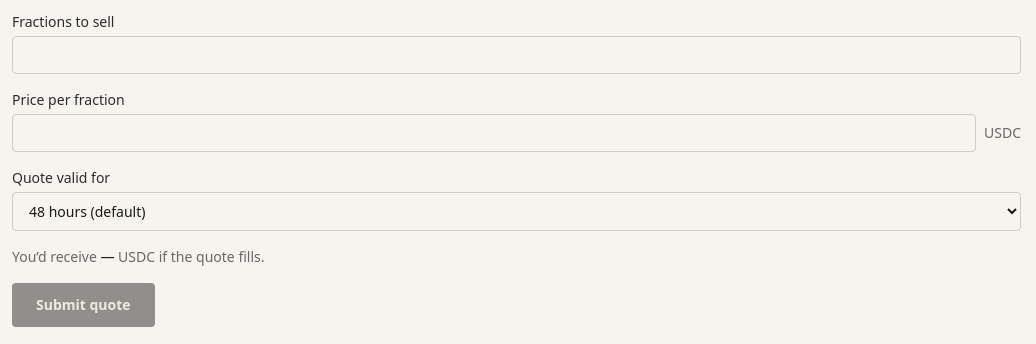
Test: QuoteForm (interaction) › updates the "you’d receive" preview to 375.00 for count=25, price=15
Type "25" into the field labelled "Fractions to sell" at [516, 55], box [12,36,1021,74]
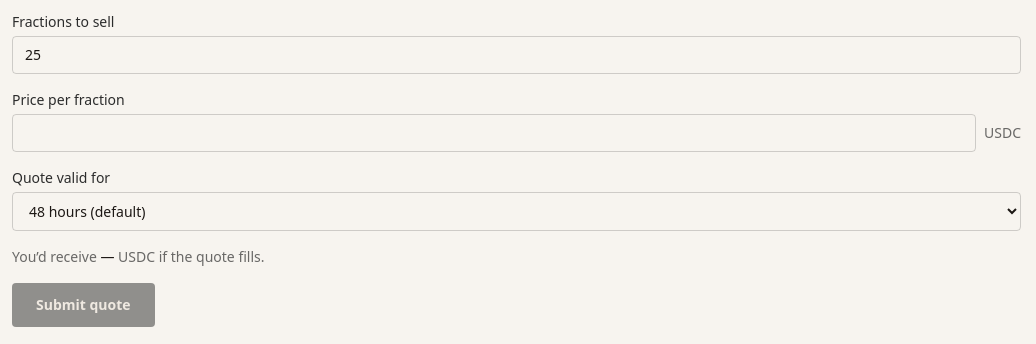
Type "15" into the field labelled "Price per fraction" at [494, 133], box [12,114,976,152]
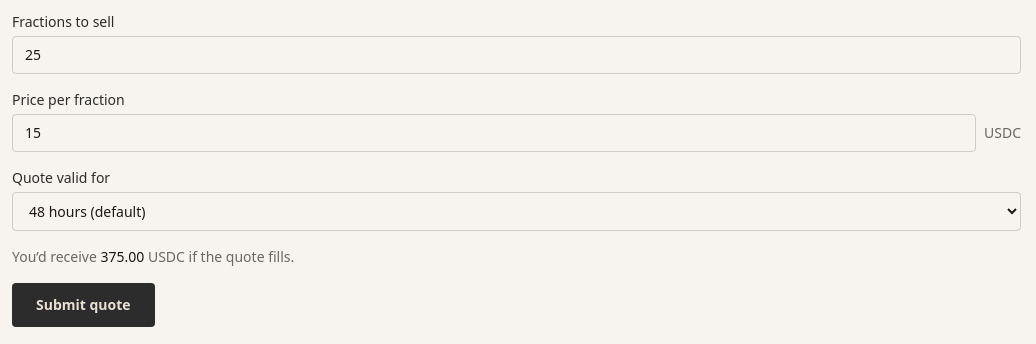
Expected: the text "375.00" is shown, [100,247,144,266]
